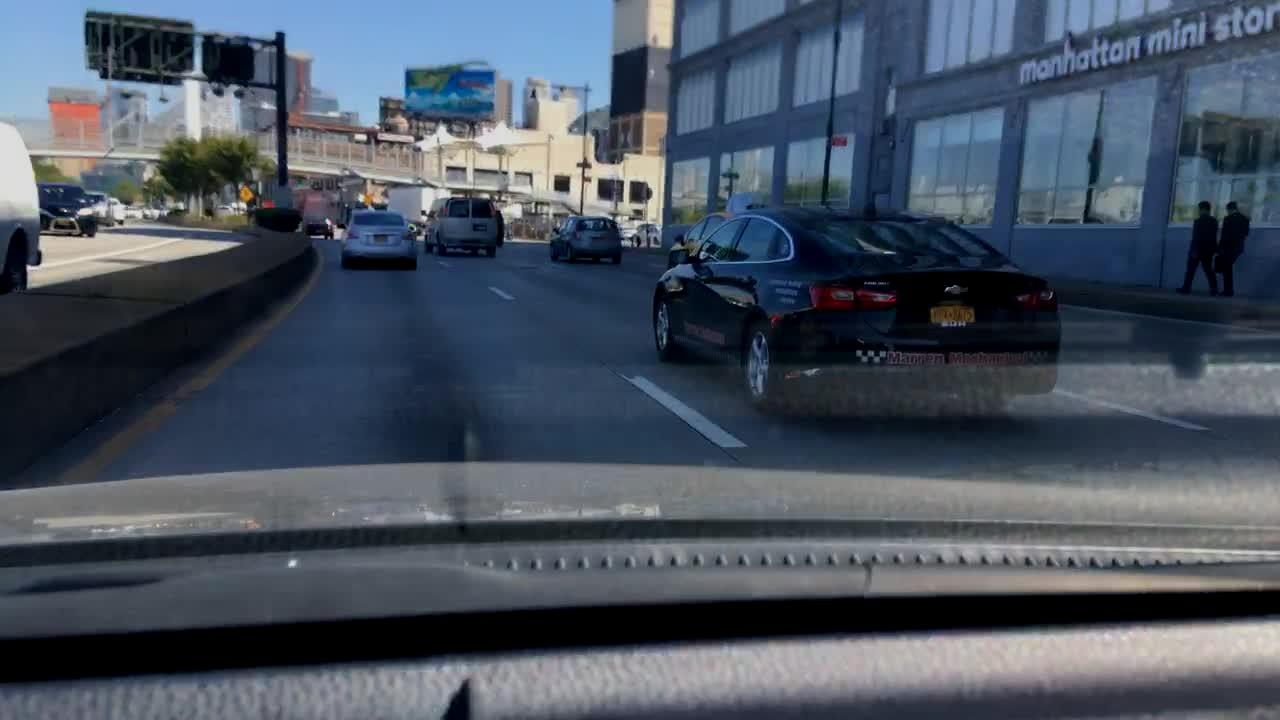chevrolet: (944, 282, 970, 298)
